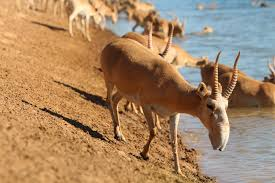saiga: (99, 37, 240, 176)
